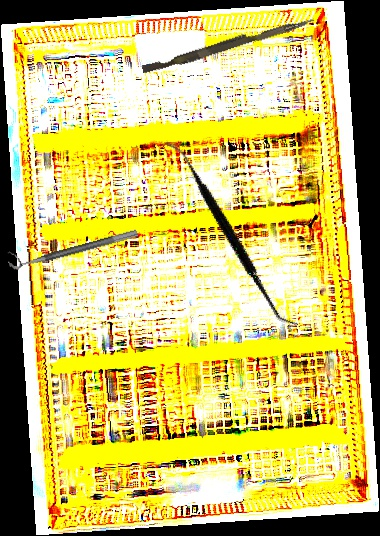Fixation Ring: (5, 218, 139, 272)
Pusher: (141, 10, 316, 79)
Spatula Surgical: (118, 139, 346, 329)
